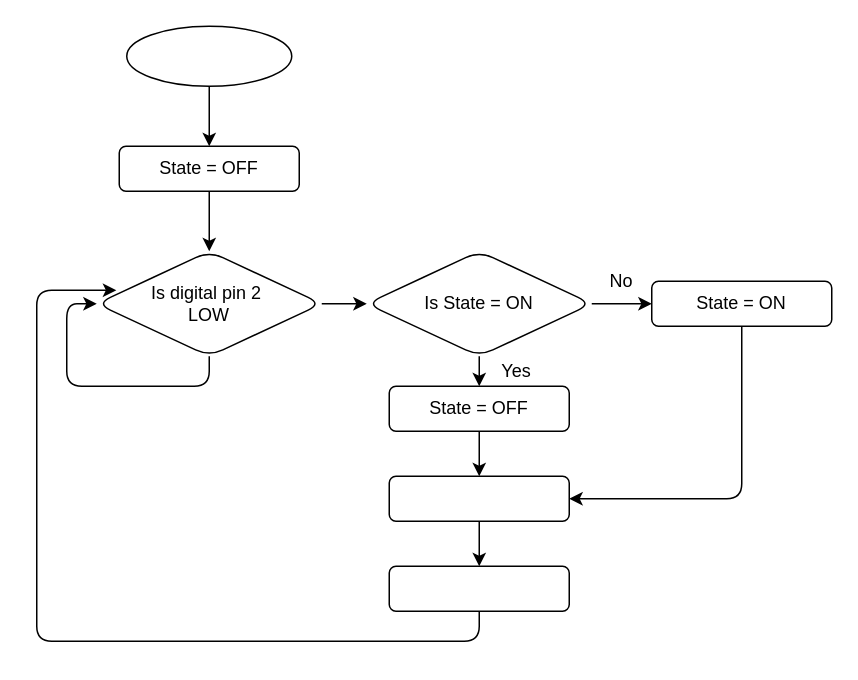
Some shapes in this 858 by 680 pixel diagram are drawn without their labels. The centre of each missing label's shape, as x and y in pixels:
Set the LED to State: pixel 478 498
Start Program: pixel 208 55
Wait for 500ms: pixel 478 588
